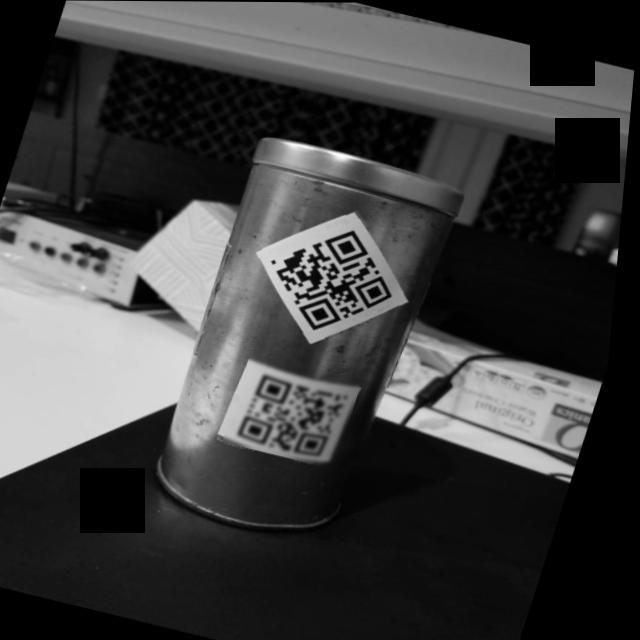QR_CODE: (243, 198, 429, 352), (228, 352, 371, 468)
